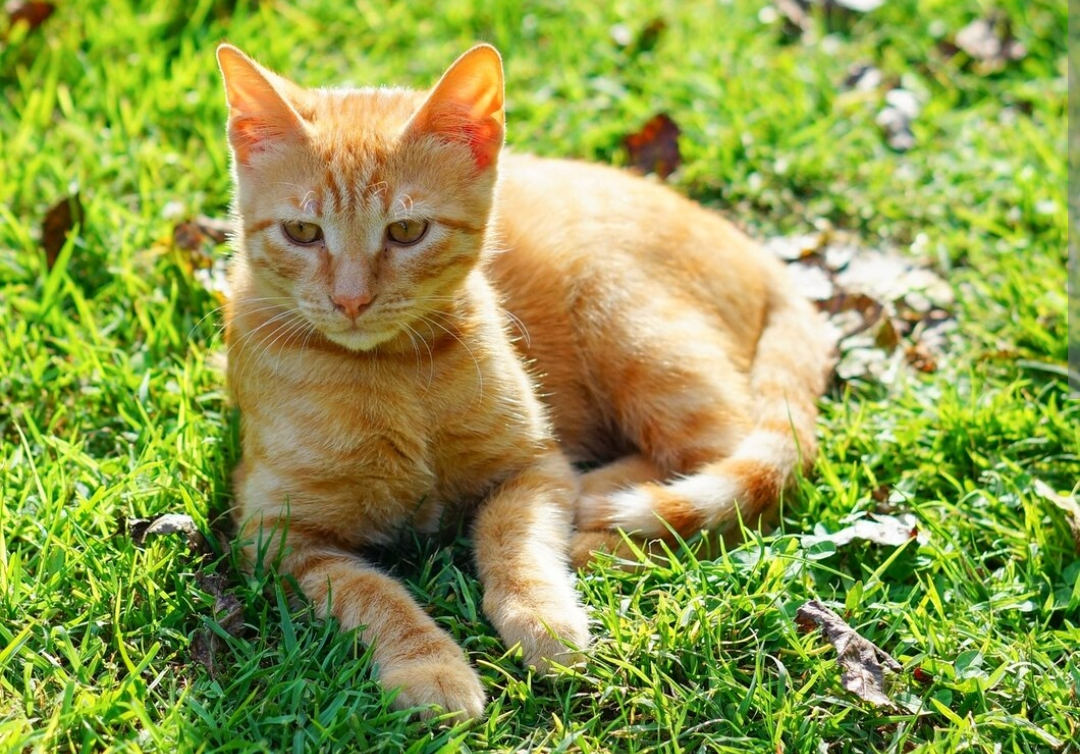kucing: (157, 27, 874, 741)
